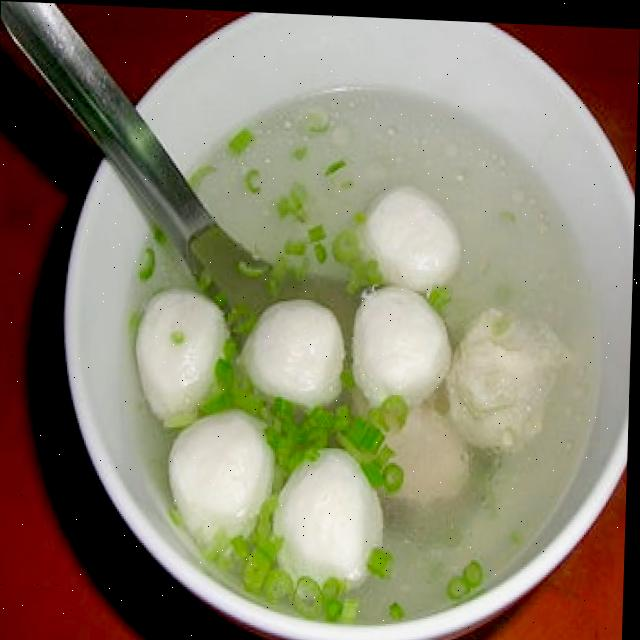熟制海鲜: (59, 3, 640, 634)
